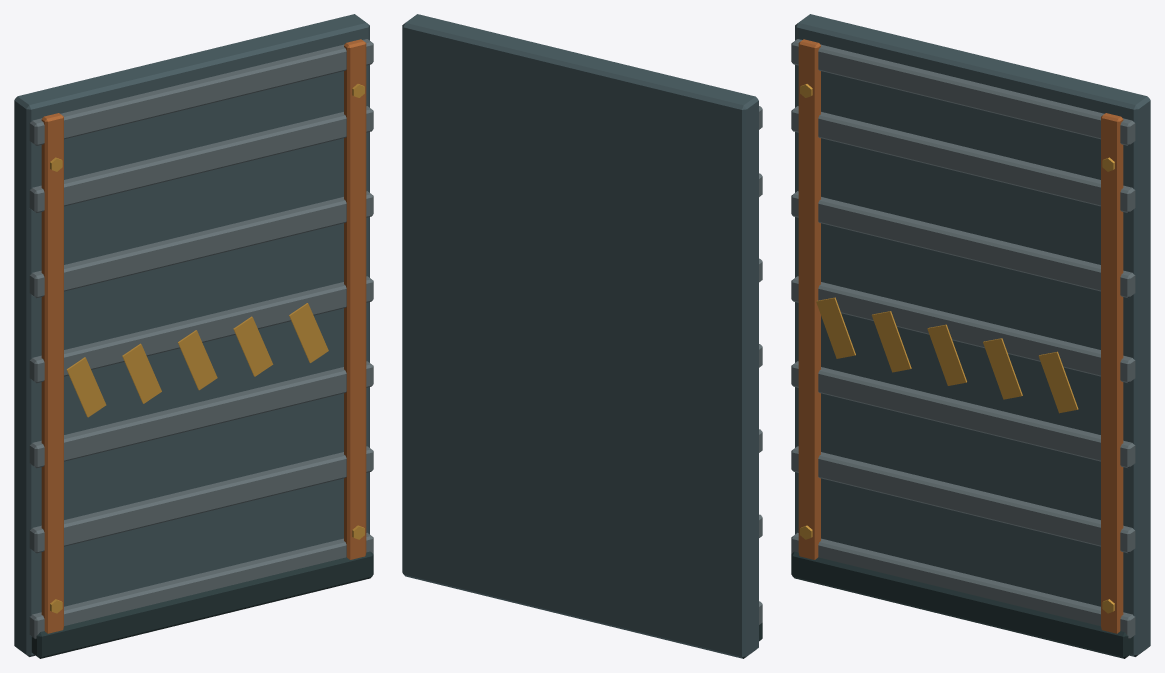
File: e11c-c1-dock-shutter-leaf.glb
3 views of the same model, side by side, from view 1: azimuth 30°, elevation 25°; view 2: azimuth 150°, elevation 25°; view 3: azimuth 330°, elevation 25° (orthographic).
Visible parts, largest first — view 1: e11c-c1-dock-shutter-leaf; view 2: e11c-c1-dock-shutter-leaf; view 3: e11c-c1-dock-shutter-leaf.
Part boxes in pixels (x1,y1,x2,y2): e11c-c1-dock-shutter-leaf: (14,14,373,658); e11c-c1-dock-shutter-leaf: (402,14,762,658); e11c-c1-dock-shutter-leaf: (791,14,1150,658).
Size of the model in its own units: 2.41 by 3.7 by 0.2915.
